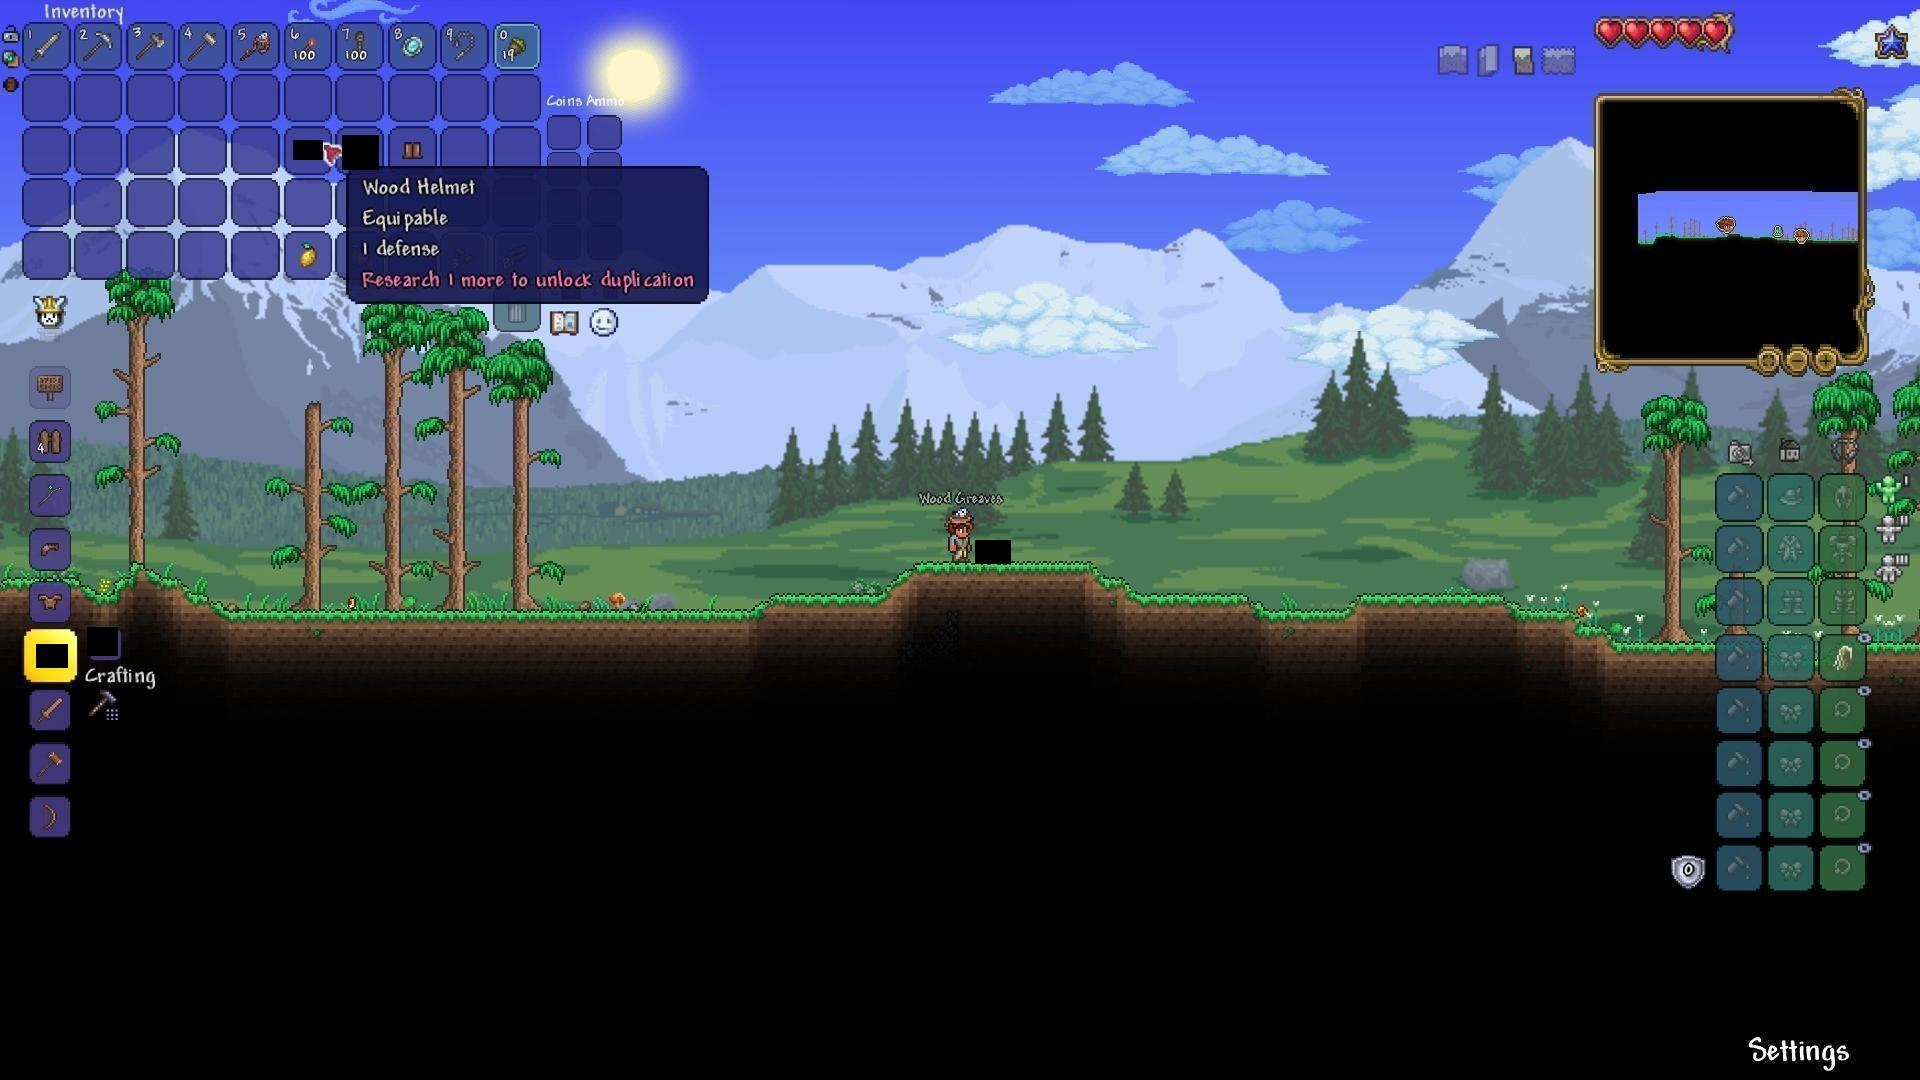breastplate: (30, 583, 66, 617)
helmet: (34, 534, 70, 564)
legs: (397, 138, 429, 161)
